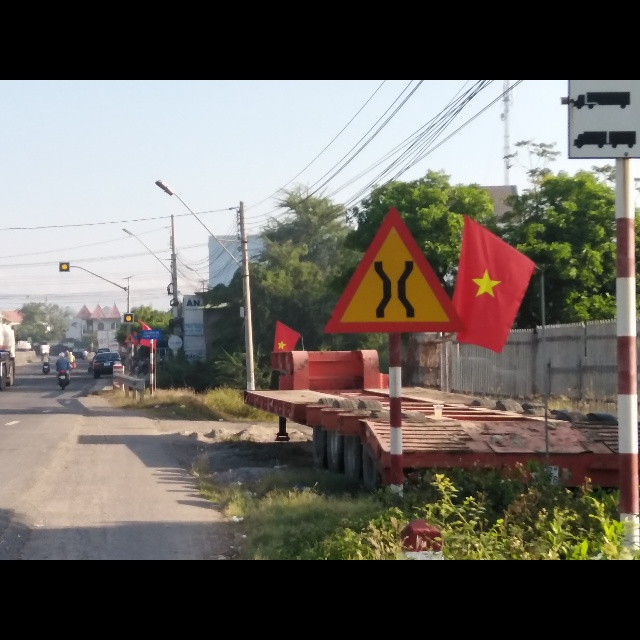Cầu hẹp: (319, 200, 467, 336)
